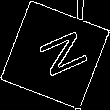N_SW: (24, 27, 86, 83)
